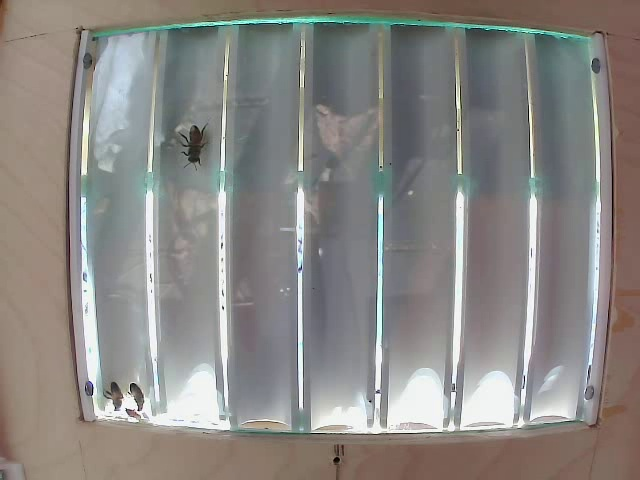bee: (177, 123, 220, 173)
